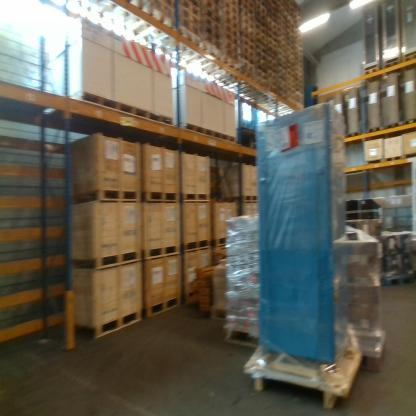pallets: (53, 0, 307, 107), (74, 90, 246, 149), (242, 343, 363, 409), (69, 235, 229, 271), (73, 289, 183, 340), (341, 118, 415, 173), (71, 187, 212, 205), (360, 53, 416, 80)
